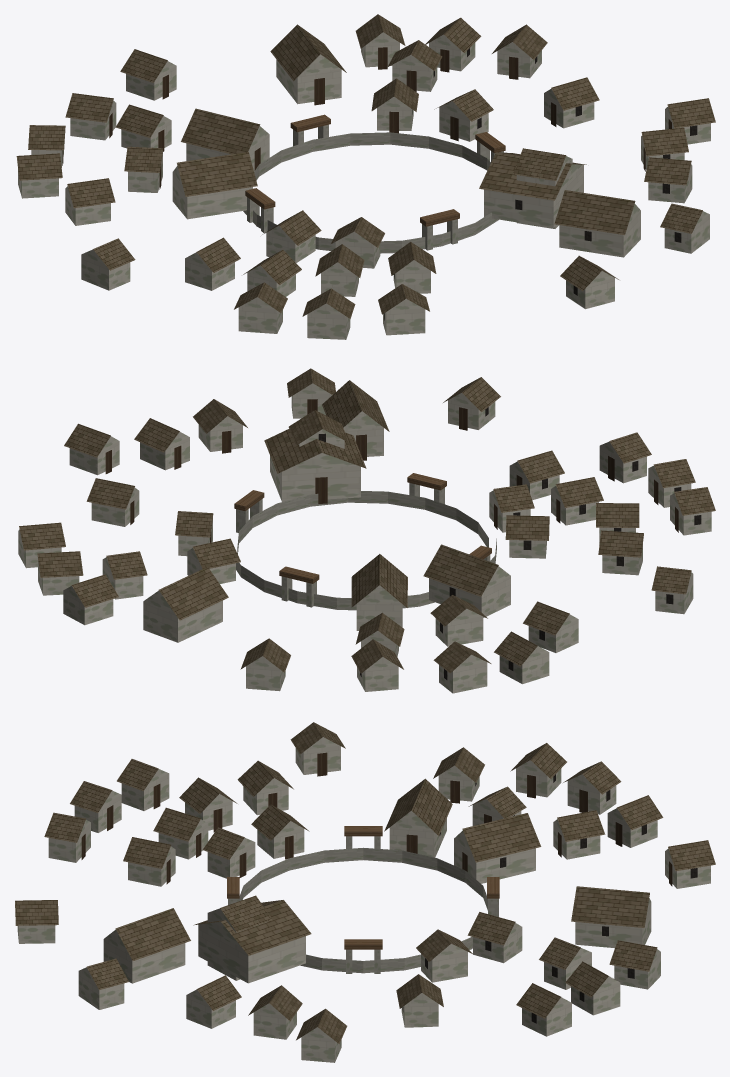
File: ae_forest_neighbourhood_stone_lod1.glb
The picture shows the model from 3 angles, top to bottom: view 1: azimuth 30°, elevation 25°; view 2: azimuth 150°, elevation 25°; view 3: azimuth 270°, elevation 25°; orthographic projection.
Visible parts, largest first — view 1: ae_forest_neighbourhood_stone_lod1; view 2: ae_forest_neighbourhood_stone_lod1; view 3: ae_forest_neighbourhood_stone_lod1.
Boxes of the visible parts, bbox=[...] form: ae_forest_neighbourhood_stone_lod1: bbox=[16, 14, 715, 339]; ae_forest_neighbourhood_stone_lod1: bbox=[18, 368, 715, 693]; ae_forest_neighbourhood_stone_lod1: bbox=[15, 722, 715, 1062].
Size of the model in its own units: 1.89 by 0.1882 by 1.82.
Materials: 1 (1 with a texture image).
